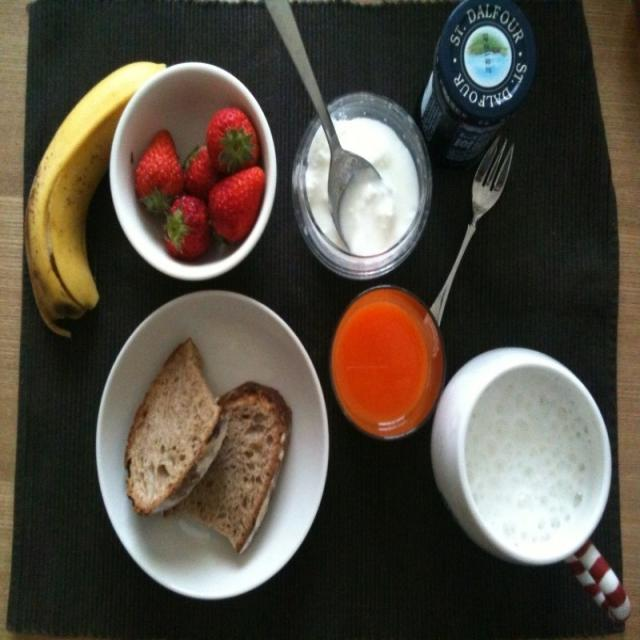面包点心: (77, 286, 336, 613)
